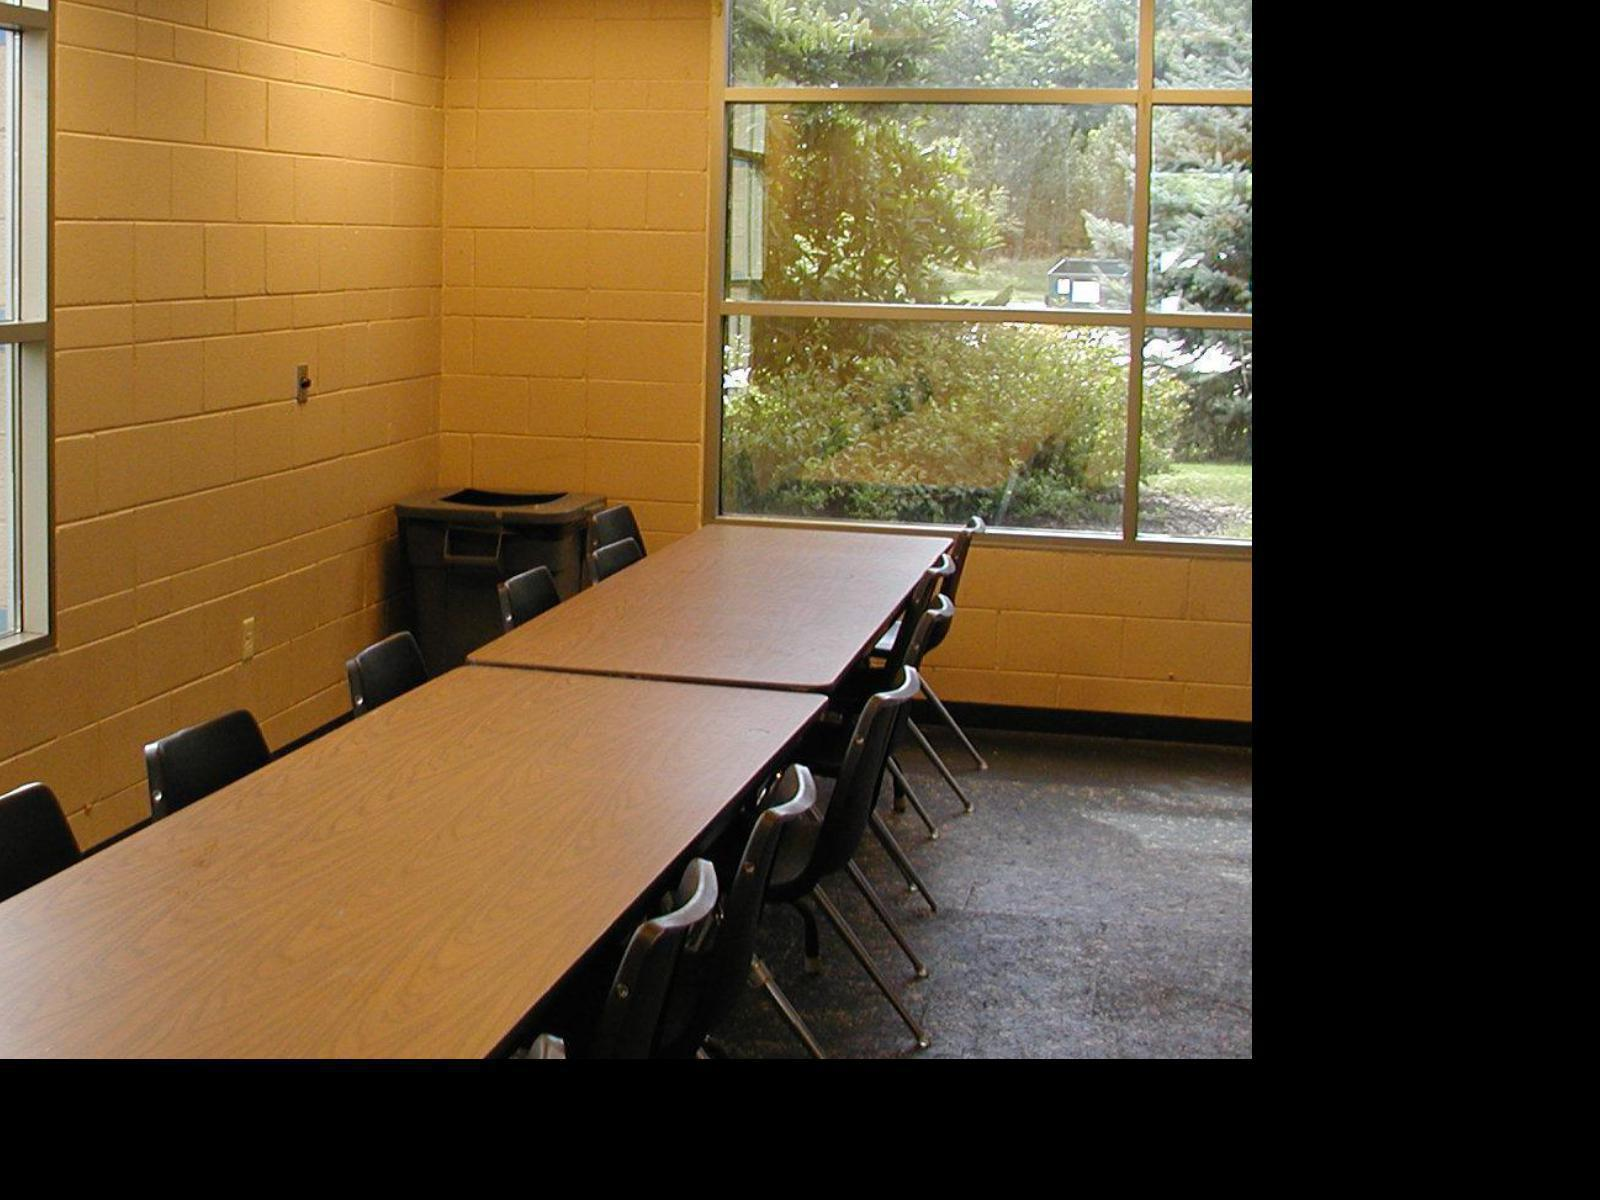Otro Obstaculo: (414, 505, 564, 600)
